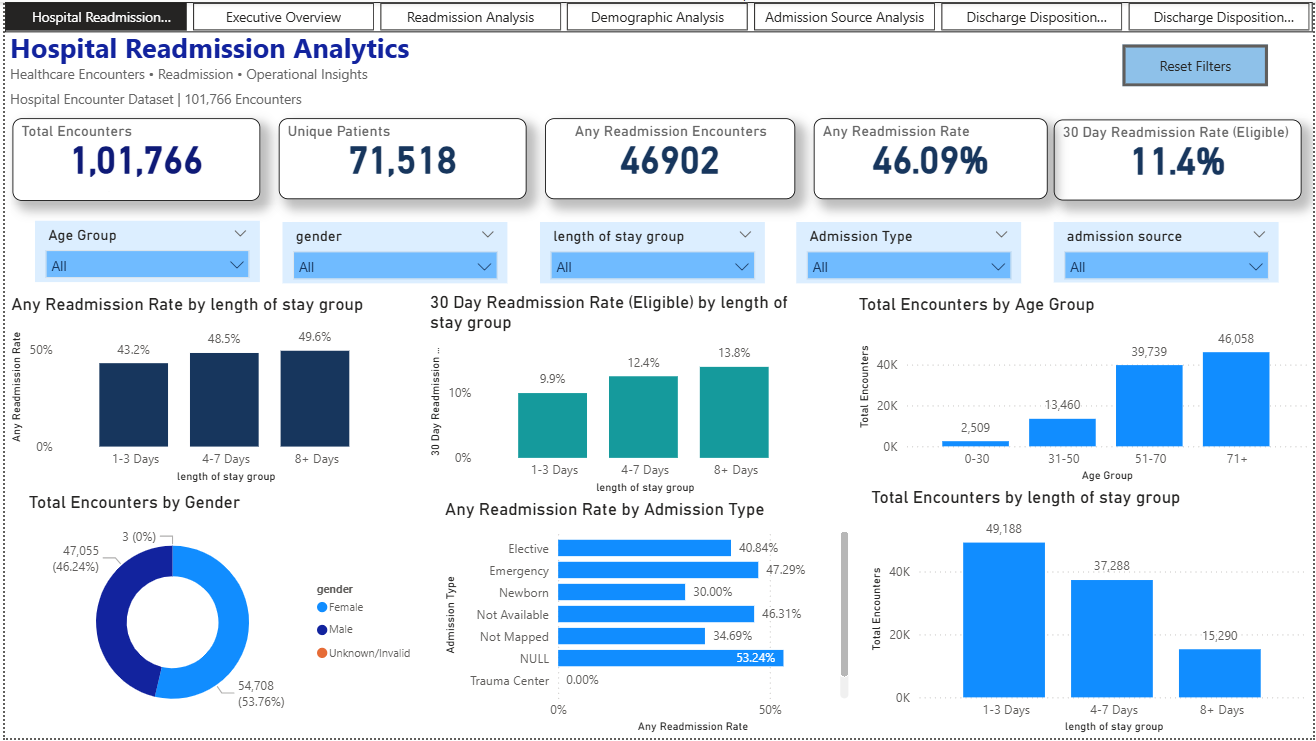

What the dashboard file says about the page in this screenshot:
{"tool":"powerbi","page":{"name":"Hospital Readmission Dashboard","canvas":[1280,720],"ordinal":0},"visuals":[{"type":"textbox","box":[0,20.5,1280.8,76.9],"z":0},{"type":"textbox","box":[0,80.8,319.2,33.3],"z":1000},{"type":"card","title":"Total Encounters","fields":{"Values":["diabetic_data.Total Encounters"]},"box":[60.3,116.7,200,80],"z":2000},{"type":"card","title":"Unique Patients","fields":{"Values":["diabetic_data.Unique Patients"]},"box":[380.8,116.7,200,80],"z":3000},{"type":"card","title":"Readmitted Encounters","fields":{"Values":["diabetic_data.Readmitted Encounters"]},"box":[715.4,116.7,200,80],"z":4000},{"type":"card","title":"Readmission Rate","fields":{"Values":["diabetic_data.Readmission Rate"]},"box":[1016.7,116.7,200,80],"z":5000},{"type":"slicer","title":"Age group","fields":{"Values":["diabetic_data.age"]},"box":[16.7,215.4,223.1,59],"z":6000},{"type":"slicer","fields":{"Values":["diabetic_data.gender"]},"box":[271.6,214.9,220,60],"z":7000},{"type":"slicer","fields":{"Values":["diabetic_data.length of stay group"]},"box":[523,214.9,220,60],"z":8000},{"type":"slicer","fields":{"Values":["diabetic_data.Admission Type"]},"box":[774.3,214.9,220,60],"z":9000},{"type":"slicer","fields":{"Values":["diabetic_data.admission source"]},"box":[1025.7,214.9,220.3,59.5],"z":10000},{"type":"clusteredColumnChart","fields":{"Category":["diabetic_data.length of stay group"],"Y":["diabetic_data.Readmission Rate"]},"box":[1.4,284.6,380,190],"z":11000},{"type":"clusteredColumnChart","fields":{"Category":["diabetic_data.length of stay group"],"Y":["diabetic_data.30 Day Readmission Rate"]},"box":[411.5,284.6,380.8,189.7],"z":12000},{"type":"clusteredColumnChart","title":"Readmission Rate by Admission Type","fields":{"Category":["Admission_type_map.Admission Type"],"Y":["diabetic_data.Readmission Rate by Admission Type"]},"box":[2.6,484.6,379.5,225.6],"z":13000},{"type":"donutChart","title":"Encounters by Gender","fields":{"Category":["diabetic_data.gender"],"Y":["diabetic_data.Total Encounters"]},"box":[411.5,484.6,392.3,235.9],"z":14000},{"type":"pageNavigator","box":[0,0,1201.4,20],"z":15000},{"type":"actionButton","box":[1093.6,41,142.3,41],"z":16000},{"type":"funnel","fields":{"Category":["diabetic_data.Age Group"],"Y":["diabetic_data.Total Encounters"]},"box":[830.8,284.6,448.7,189.7],"z":17000},{"type":"pieChart","title":"Readmission Rate by Admission Type","fields":{"Category":["diabetic_data.Admission Type"],"Y":["diabetic_data.Readmission Rate by Admission Type"]},"box":[830.8,474.4,415.4,246.2],"z":18000}]}

Visuals, with their boxes on the page's 1280x720 design canvas (x1, y1, x2, y2). These are canvas units, not pixel positions in the 1316x741 screenshot, which may show the page scaled, cropped or inside an application window:
textbox: [x1=0, y1=20, x2=1281, y2=97]
textbox: [x1=0, y1=81, x2=319, y2=114]
"Total Encounters" card: [x1=60, y1=117, x2=260, y2=197]
"Unique Patients" card: [x1=381, y1=117, x2=581, y2=197]
"Readmitted Encounters" card: [x1=715, y1=117, x2=915, y2=197]
"Readmission Rate" card: [x1=1017, y1=117, x2=1217, y2=197]
"Age group" slicer: [x1=17, y1=215, x2=240, y2=274]
slicer - diabetic_data.gender: [x1=272, y1=215, x2=492, y2=275]
slicer - diabetic_data.length of stay group: [x1=523, y1=215, x2=743, y2=275]
slicer - diabetic_data.Admission Type: [x1=774, y1=215, x2=994, y2=275]
slicer - diabetic_data.admission source: [x1=1026, y1=215, x2=1246, y2=274]
clusteredColumnChart - diabetic_data.length of stay group x diabetic_data.Readmission Rate: [x1=1, y1=285, x2=381, y2=475]
clusteredColumnChart - diabetic_data.length of stay group x diabetic_data.30 Day Readmission Rate: [x1=412, y1=285, x2=792, y2=474]
"Readmission Rate by Admission Type" clusteredColumnChart: [x1=3, y1=485, x2=382, y2=710]
"Encounters by Gender" donutChart: [x1=412, y1=485, x2=804, y2=720]
pageNavigator: [x1=0, y1=0, x2=1201, y2=20]
actionButton: [x1=1094, y1=41, x2=1236, y2=82]
funnel - diabetic_data.Age Group x diabetic_data.Total Encounters: [x1=831, y1=285, x2=1280, y2=474]
"Readmission Rate by Admission Type" pieChart: [x1=831, y1=474, x2=1246, y2=721]
